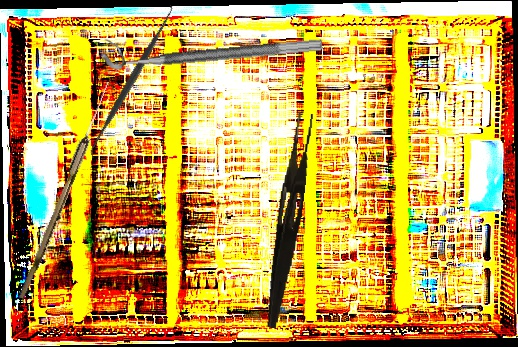Dressing Forceps: (263, 111, 315, 330)
Fixation Ring: (100, 20, 323, 72)
Spatula Surgical: (80, 2, 183, 161)
Surgical Spoon: (18, 79, 113, 302)
